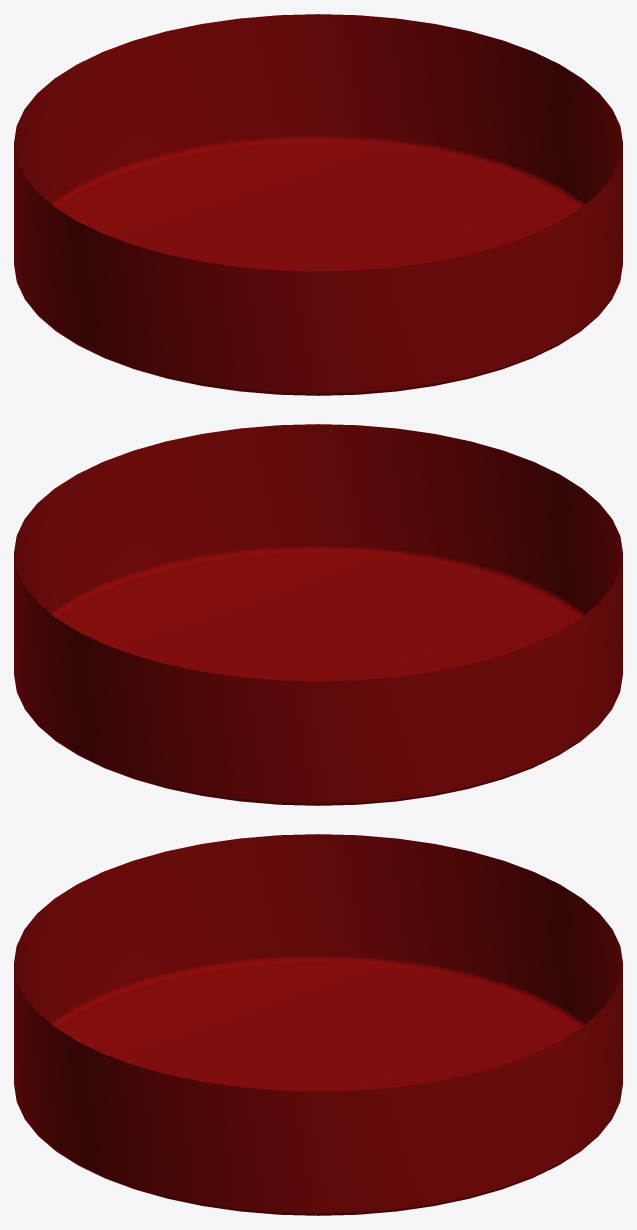
File: original-5-new.obj
3 views of the same model, one above another, from view 1: azimuth 30°, elevation 25°; view 2: azimuth 150°, elevation 25°; view 3: azimuth 270°, elevation 25° (orthographic).
Parts seen in each view (by area): view 1: mesh2/mesh2-geometry/material_0#mesh2-geometry; view 2: mesh2/mesh2-geometry/material_0#mesh2-geometry; view 3: mesh2/mesh2-geometry/material_0#mesh2-geometry.
Boxes of the visible parts, x1=… form: mesh2/mesh2-geometry/material_0#mesh2-geometry: x1=14, y1=14, x2=622, y2=395; mesh2/mesh2-geometry/material_0#mesh2-geometry: x1=14, y1=424, x2=622, y2=805; mesh2/mesh2-geometry/material_0#mesh2-geometry: x1=14, y1=834, x2=622, y2=1215.
Bounding box in the file's own units: 0.9773 × 0.2234 × 0.9773.
